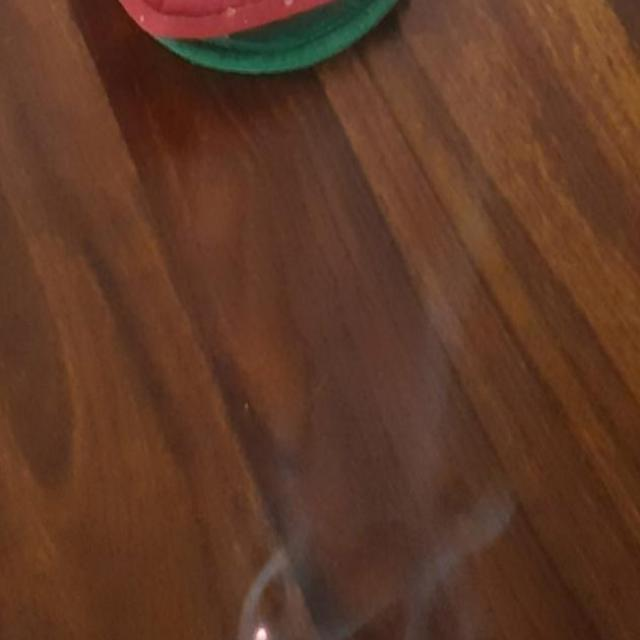fire: (226, 242, 536, 640)
